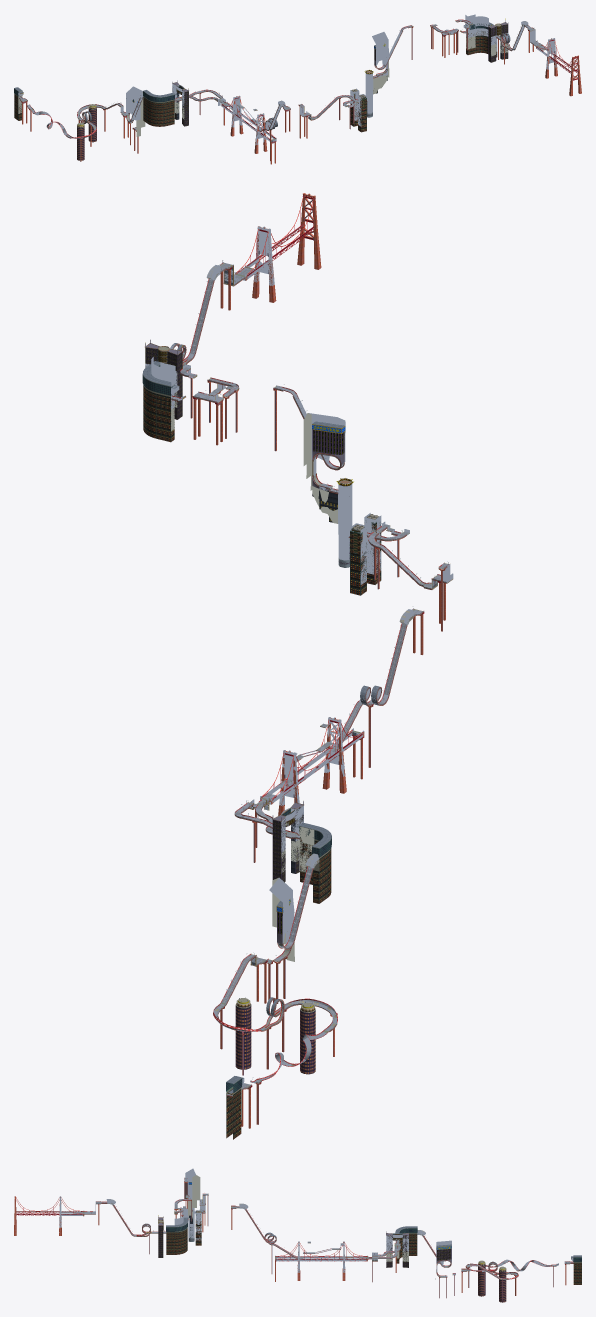
File: radical_highway_sonic_adventure_2.glb
3 renders of one model, top to bottom at view 1: azimuth 30°, elevation 25°; view 2: azimuth 150°, elevation 25°; view 3: azimuth 270°, elevation 25°, orthographic. The views are drawn at different scales.
Visible parts, largest first — view 1: skfb_offset; view 2: skfb_offset; view 3: skfb_offset.
Part boxes in pixels (left/top/right/bottom): skfb_offset: left=14, top=14, right=581, bottom=164; skfb_offset: left=142, top=193, right=453, bottom=1139; skfb_offset: left=14, top=1168, right=581, bottom=1302.
Bounding box in the file's own units: 10524 × 8260 × 20149.
65 materials, 64 textured.
